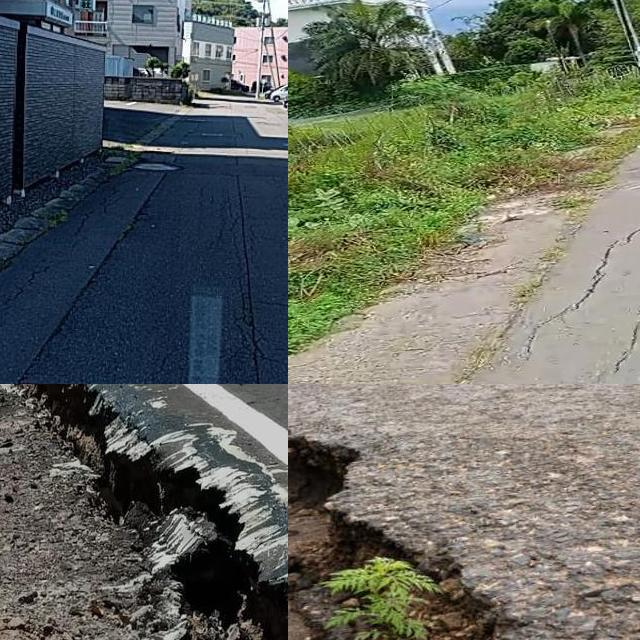Memanjang: (223, 164, 276, 384)
Pinggir: (0, 384, 288, 640), (406, 69, 640, 352), (288, 384, 544, 640)
Sambungan: (0, 166, 167, 384)
